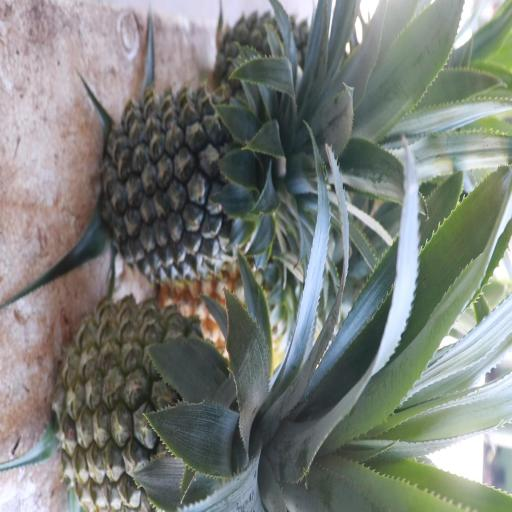------------------------------: (60, 294, 269, 508)
